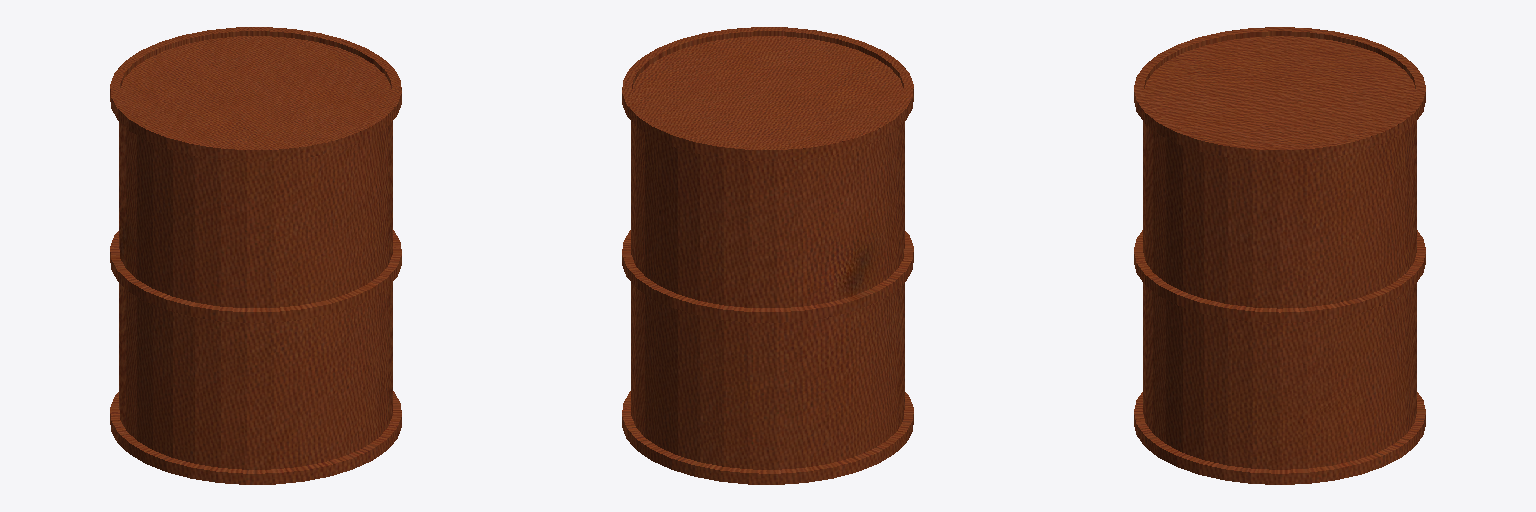
3 views of the same model, side by side, from view 1: azimuth 30°, elevation 25°; view 2: azimuth 150°, elevation 25°; view 3: azimuth 270°, elevation 25° (orthographic).
Visible parts, largest first — view 1: Barel; view 2: Barel; view 3: Barel.
Part boxes in pixels (bbox=[...]): Barel: bbox=[110, 27, 401, 484]; Barel: bbox=[622, 27, 913, 484]; Barel: bbox=[1134, 27, 1425, 484].
Size of the model in its own units: 0.816 by 1.03 by 0.816.
1 materials, 1 textured.